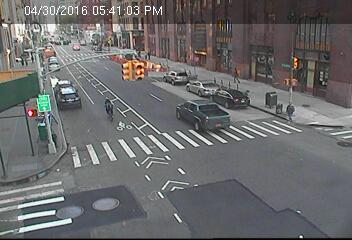neg: (250, 160, 276, 194), (183, 94, 208, 127), (98, 93, 119, 122), (100, 189, 120, 215), (24, 94, 43, 120), (185, 174, 204, 200), (46, 36, 64, 61), (257, 60, 274, 83), (132, 56, 149, 78), (293, 63, 307, 81), (272, 103, 282, 115)
pos: (230, 61, 246, 83), (284, 101, 299, 121)
